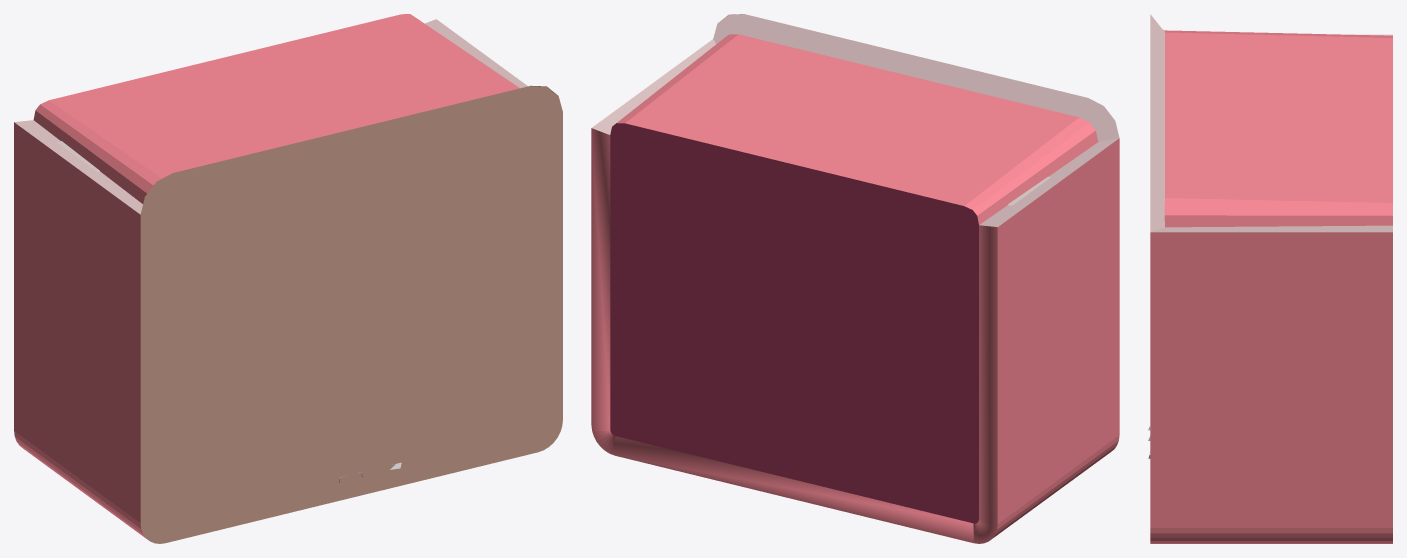
The model's file is Player_Room (12).fbx.
3 renders of one model, left to right at view 1: azimuth 30°, elevation 25°; view 2: azimuth 150°, elevation 25°; view 3: azimuth 270°, elevation 25°, orthographic. The views are drawn at different scales.
Visible parts, largest first — view 1: PlayerRoom; view 2: PlayerRoom; view 3: PlayerRoom.
Part boxes in pixels (x1,y1,x2,y2): PlayerRoom: (14,14,562,543); PlayerRoom: (591,14,1119,543); PlayerRoom: (1150,14,1392,543).
Bounding box in the file's own units: 1202 × 1002 × 630.
